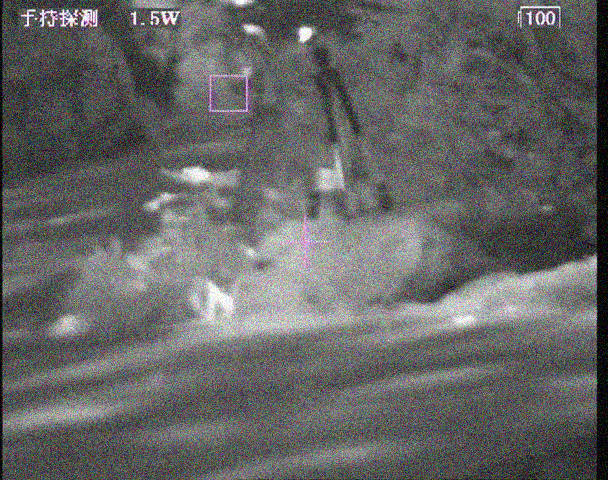my: (297, 27, 313, 43)
